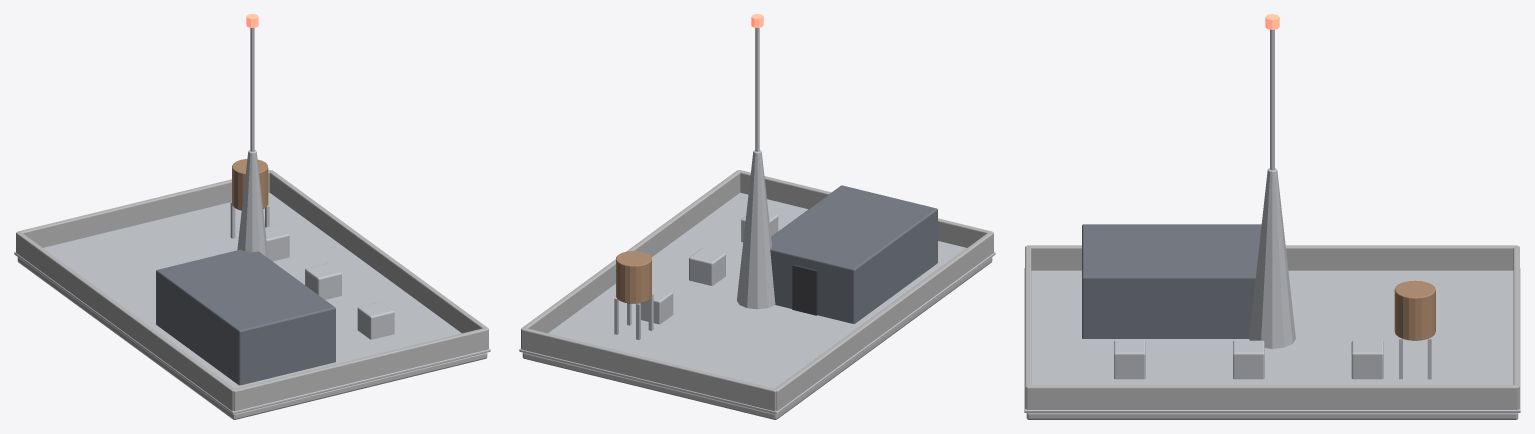
The model's file is roof_4x6_spire_office.glb.
3 renders of one model, left to right at view 1: azimuth 30°, elevation 25°; view 2: azimuth 150°, elevation 25°; view 3: azimuth 270°, elevation 25°, orthographic. The views are drawn at different scales.
Visible parts, largest first — view 1: int_slab_edge, ext_parapet, ext_penthouse, ext_ac, int_slab, ext_spire, ext_tank, ext_mast; view 2: int_slab_edge, ext_parapet, ext_penthouse, ext_spire, int_slab, ext_ac, ext_tank, ext_penthouse_door, ext_tank_legs, ext_mast; view 3: int_slab_edge, ext_parapet, ext_penthouse, ext_spire, ext_ac, int_slab, ext_tank, ext_mast.
Boxes of the visible parts, bbox=[...] form: int_slab_edge: bbox=[14, 192, 490, 414]; ext_parapet: bbox=[16, 170, 488, 411]; ext_penthouse: bbox=[156, 249, 335, 385]; ext_ac: bbox=[265, 225, 394, 339]; int_slab: bbox=[17, 257, 487, 419]; ext_spire: bbox=[237, 150, 268, 258]; ext_tank: bbox=[232, 159, 268, 210]; ext_mast: bbox=[250, 28, 254, 151]; int_slab_edge: bbox=[519, 192, 995, 414]; ext_parapet: bbox=[521, 170, 993, 411]; ext_penthouse: bbox=[770, 185, 937, 323]; ext_spire: bbox=[737, 150, 775, 309]; int_slab: bbox=[522, 257, 992, 419]; ext_ac: bbox=[641, 213, 778, 324]; ext_tank: bbox=[616, 251, 651, 303]; ext_penthouse_door: bbox=[792, 264, 817, 315]; ext_tank_legs: bbox=[614, 294, 653, 339]; ext_mast: bbox=[755, 28, 759, 151]; int_slab_edge: bbox=[1024, 268, 1520, 412]; ext_parapet: bbox=[1025, 245, 1519, 409]; ext_penthouse: bbox=[1082, 224, 1261, 338]; ext_spire: bbox=[1249, 168, 1295, 348]; ext_ac: bbox=[1114, 340, 1383, 379]; int_slab: bbox=[1026, 413, 1518, 419]; ext_tank: bbox=[1394, 280, 1435, 340]; ext_mast: bbox=[1270, 29, 1274, 170].
Size of the model in its own units: 4.26 by 4.64 by 6.26.
